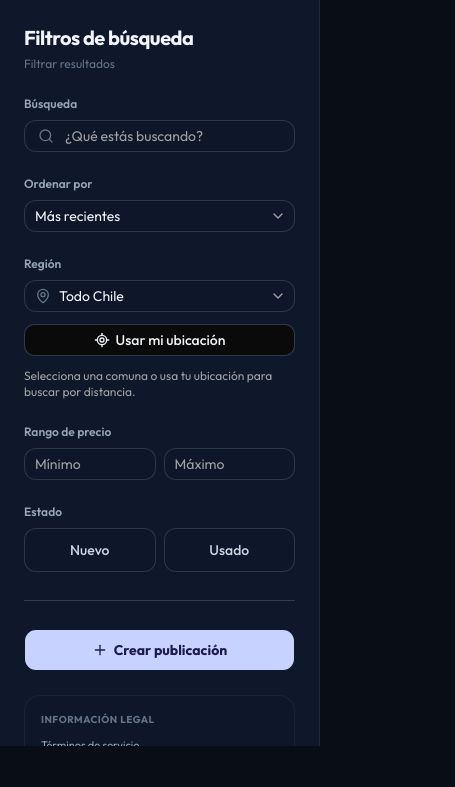
Test: Sidebar - origen del filtro geográfico › solicita permiso GPS solo al pulsar Usar mi ubicación
The image size is (455, 787).
Click the button "Usar mi ubicación" at (160, 340), box top-left (24, 324), bottom-right (295, 356)
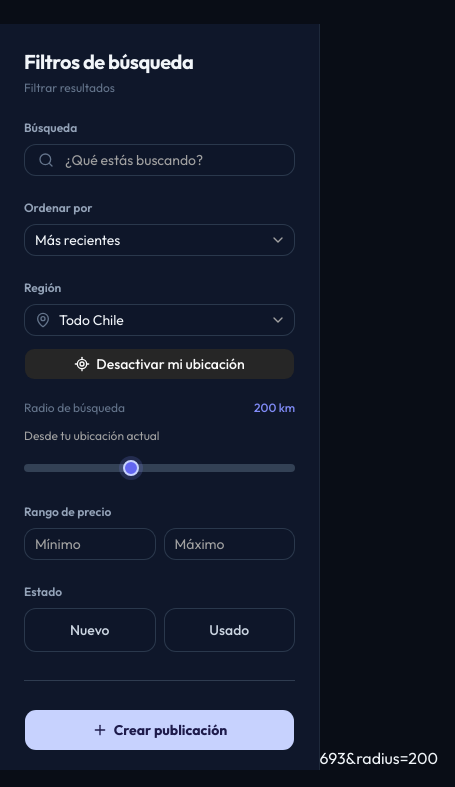
Check: the text with test id "location-search" shows "locationMode=gps", box top-left (0, 748), bottom-right (438, 768)
Check: the text with test id "location-search" shows "lat=-33.4489", box top-left (0, 748), bottom-right (438, 768)
Check: the text with test id "location-search" shows "lng=-70.6693", box top-left (0, 748), bottom-right (438, 768)
